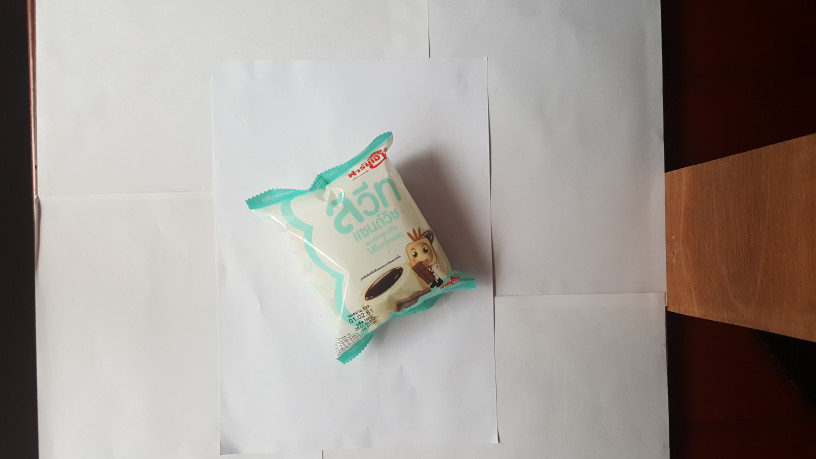farmhouse-sweetsandwich-chocolate: (241, 128, 483, 366)
